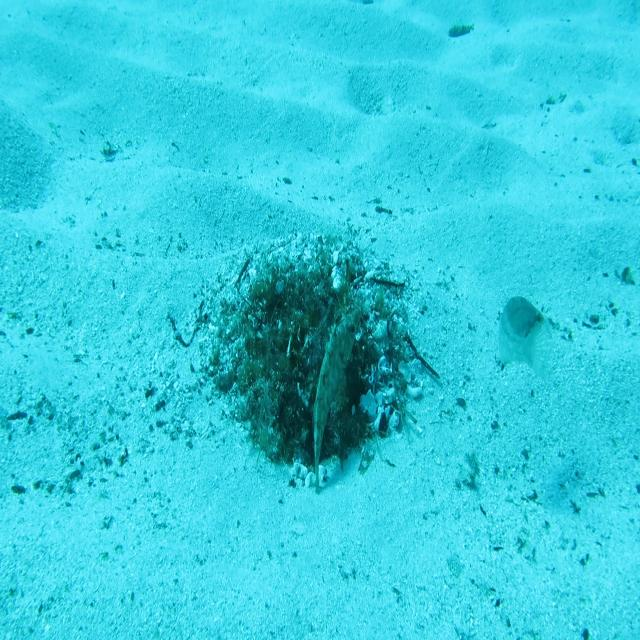LF: (311, 301, 362, 496)
core_nest: (280, 293, 330, 326)
female: (493, 291, 552, 386)
nest: (207, 230, 441, 502)
vegetation: (448, 21, 474, 38)
